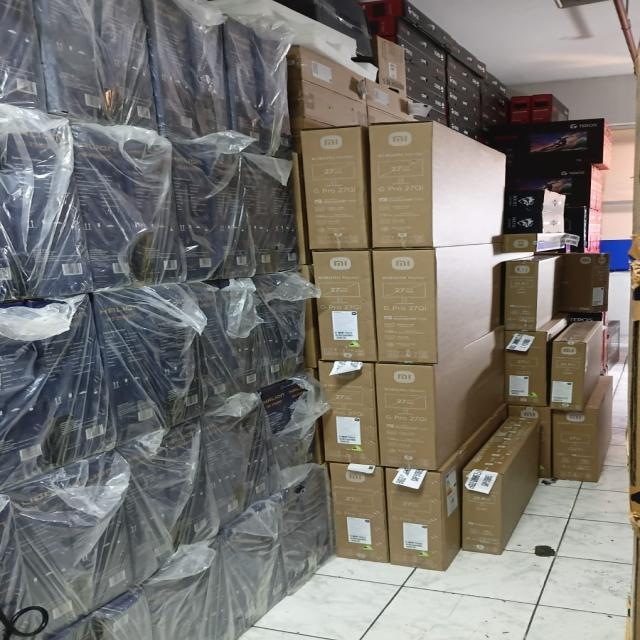caja-monitor: (70, 121, 186, 291), (92, 283, 206, 444), (462, 417, 538, 554), (376, 365, 463, 471), (298, 126, 370, 249), (369, 123, 432, 249), (373, 249, 437, 364), (386, 468, 457, 570), (313, 252, 376, 361), (243, 154, 297, 274), (551, 376, 612, 482), (319, 362, 379, 465), (327, 463, 389, 562), (550, 321, 604, 410), (503, 256, 561, 330)
